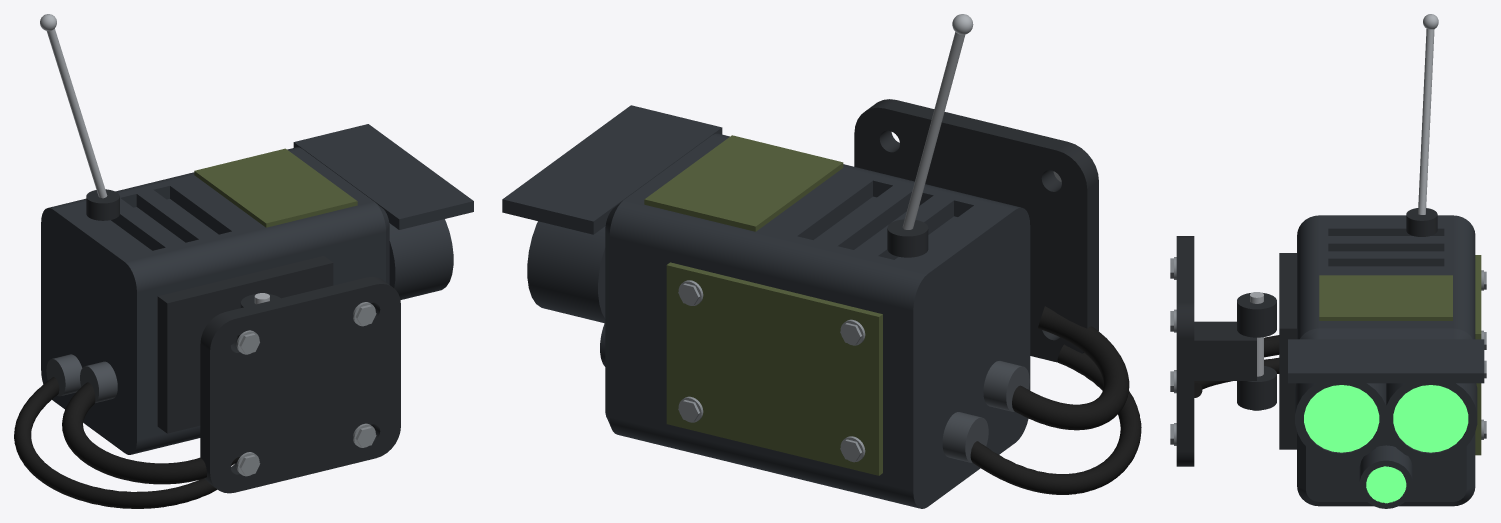
Rendered from gad_nv.glb.
3 views of the same model, side by side, from view 1: azimuth 30°, elevation 25°; view 2: azimuth 150°, elevation 25°; view 3: azimuth 270°, elevation 25° (orthographic). The views are drawn at different scales.
Visible parts, largest first — view 1: sensor_block, folding_mount_bracket, cables, olive_panels, cable_plugs, antenna, bolts, antenna_base; view 2: sensor_block, olive_panels, folding_mount_bracket, cables, cable_plugs, antenna, bolts, antenna_base; view 3: sensor_block, folding_mount_bracket, nv_lenses, olive_panels, antenna, bolts, antenna_base, cables, hinge_pin.
Boxes of the visible parts, <box> form: sensor_block: <box>41,124,473,454</box>; folding_mount_bracket: <box>157,256,400,493</box>; cables: <box>14,377,239,508</box>; olive_panels: <box>194,148,357,227</box>; cable_plugs: <box>46,354,117,402</box>; antenna: <box>40,14,107,198</box>; bolts: <box>236,302,376,476</box>; antenna_base: <box>86,189,119,220</box>; sensor_block: <box>502,105,1030,508</box>; olive_panels: <box>644,135,882,475</box>; folding_mount_bracket: <box>854,99,1098,362</box>; cables: <box>970,306,1141,494</box>; cable_plugs: <box>942,361,1029,462</box>; antenna: <box>902,14,973,229</box>; bolts: <box>678,171,1061,462</box>; antenna_base: <box>887,219,928,257</box>; sensor_block: <box>1288,215,1484,508</box>; folding_mount_bracket: <box>1176,236,1296,466</box>; nv_lenses: <box>1304,385,1468,503</box>; olive_panels: <box>1319,255,1481,455</box>; antenna: <box>1418,14,1438,214</box>; bolts: <box>1170,257,1486,445</box>; antenna_base: <box>1406,208,1437,236</box>; cables: <box>1194,335,1279,397</box>; hinge_pin: <box>1250,292,1263,410</box>.
Bounding box in the file's own units: 0.1006 × 0.0946 × 0.0709.
